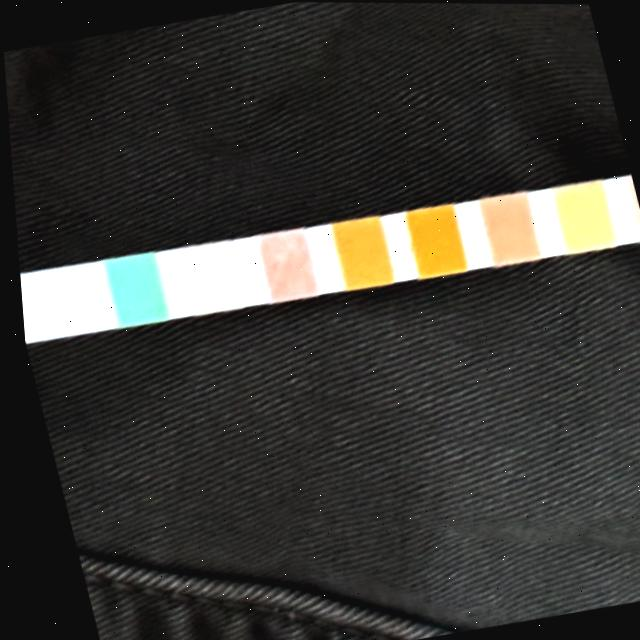Bilirubin: (181, 241, 240, 311)
Blood: (400, 204, 463, 275)
Glucose: (101, 255, 161, 325)
Ketone: (252, 232, 312, 299)
Protein: (550, 182, 610, 251)
SpGravity: (328, 218, 388, 288)
Urobilinogen: (624, 177, 640, 237)
pH: (478, 195, 536, 265)
